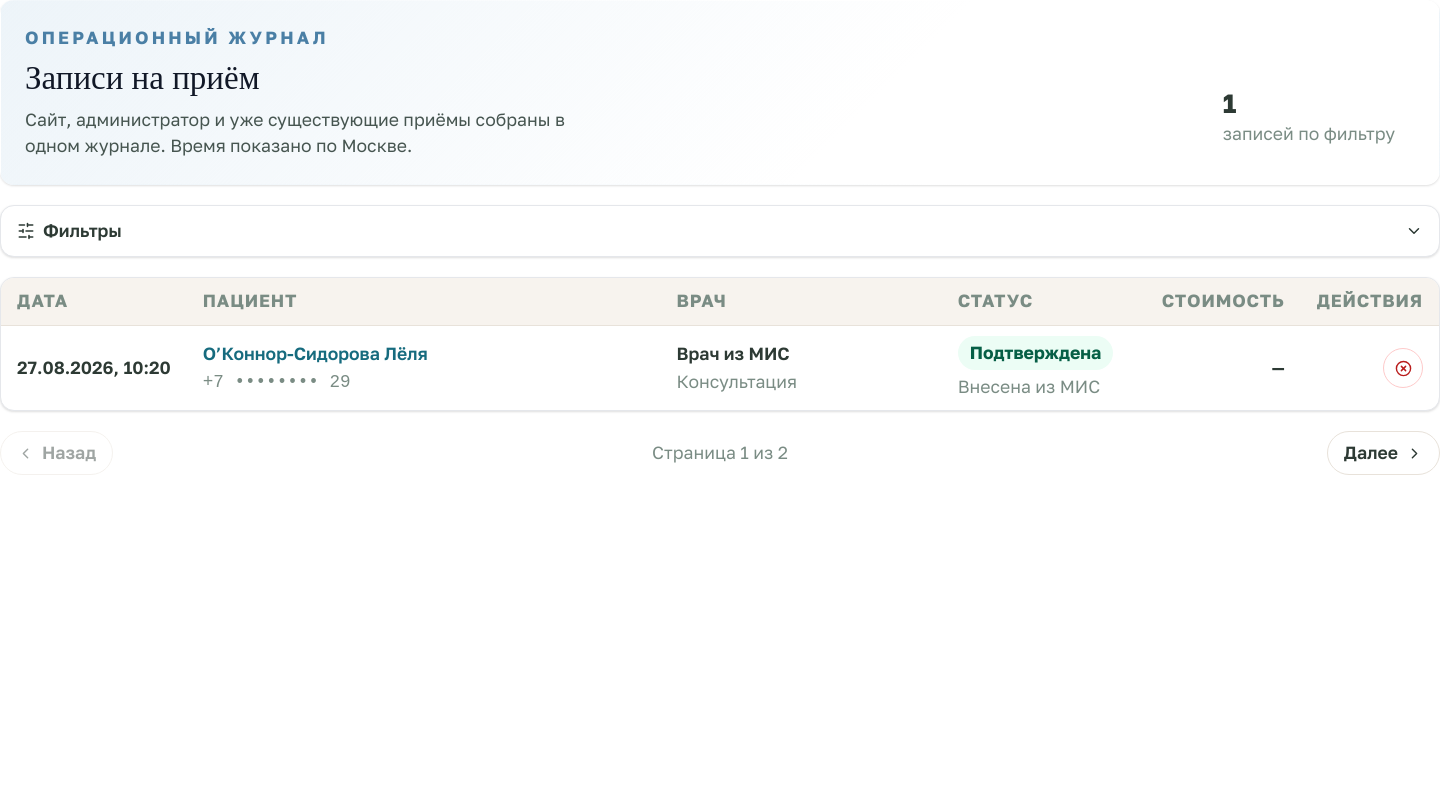
Appointments admin view › warns before a local-only cancellation and applies the returned status
Expected: the link "О’Коннор-Сидорова Лёля" is shown, [203,343,428,364]
Click the button named "Отменить запись О’Коннор-Сидорова Лёля" at coordinates (1403, 368), box [1383,348,1423,388]
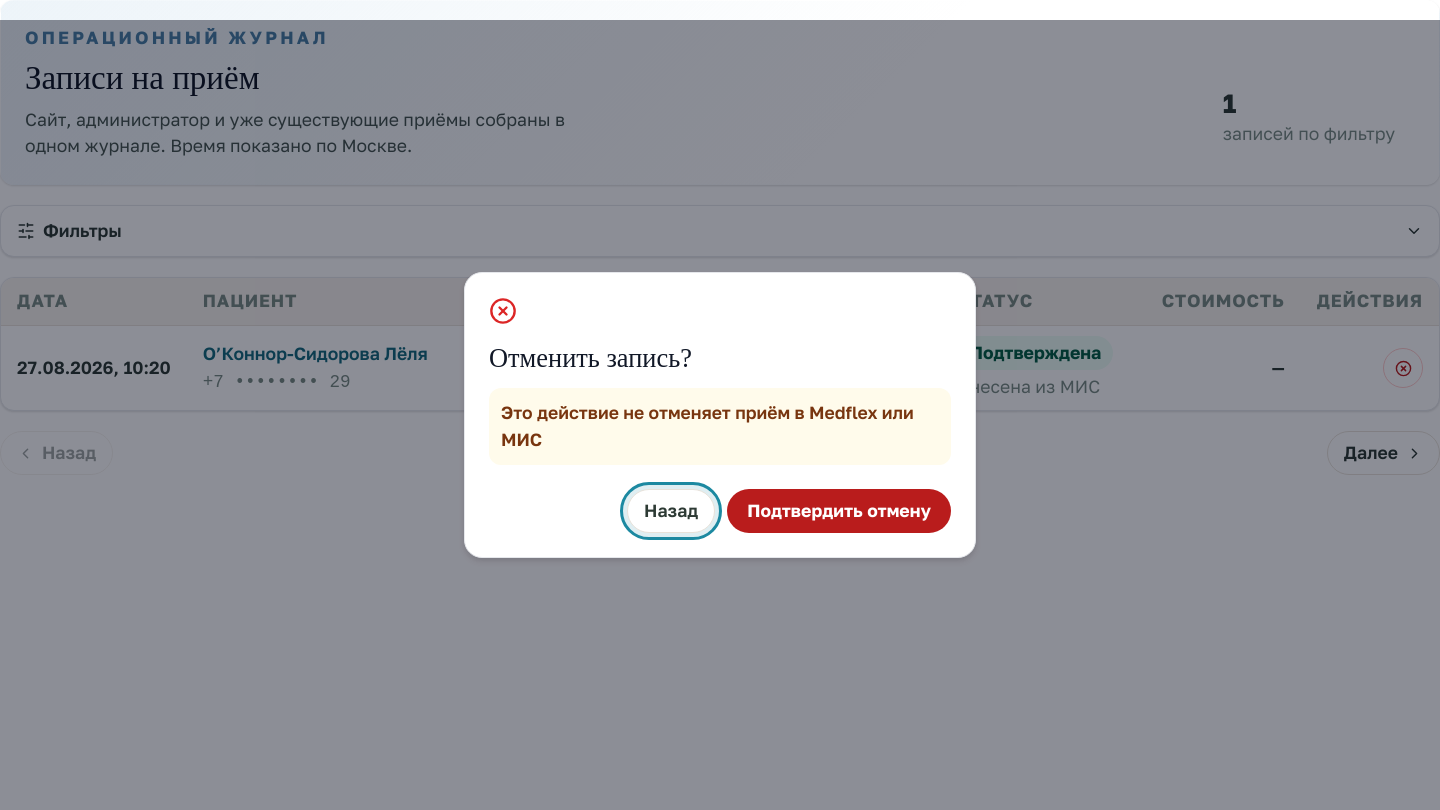
Click the button "Подтвердить отмену" at coordinates (839, 511), box [727,489,951,533]
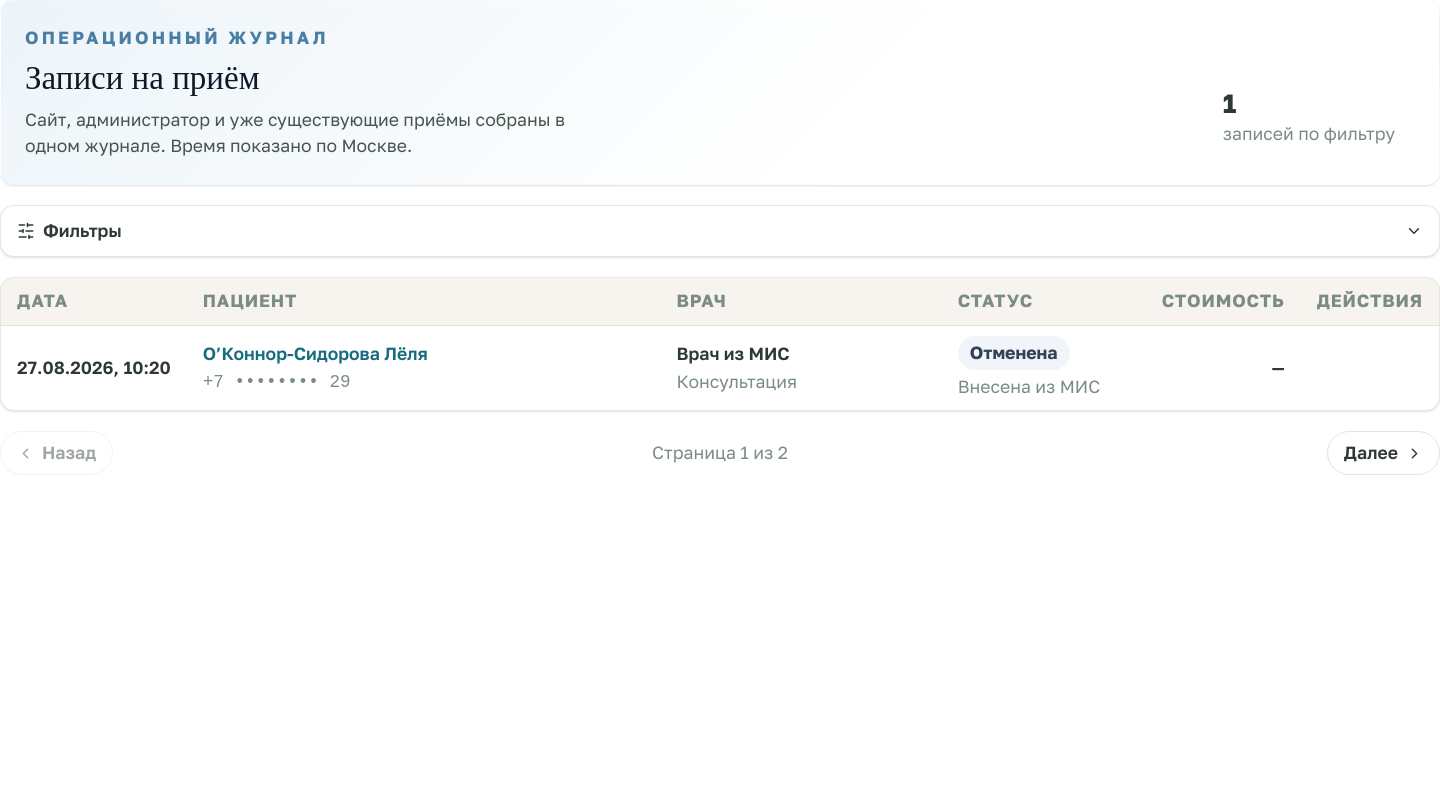
Now the text "Отменена" is shown, box [958,336,1070,370]
